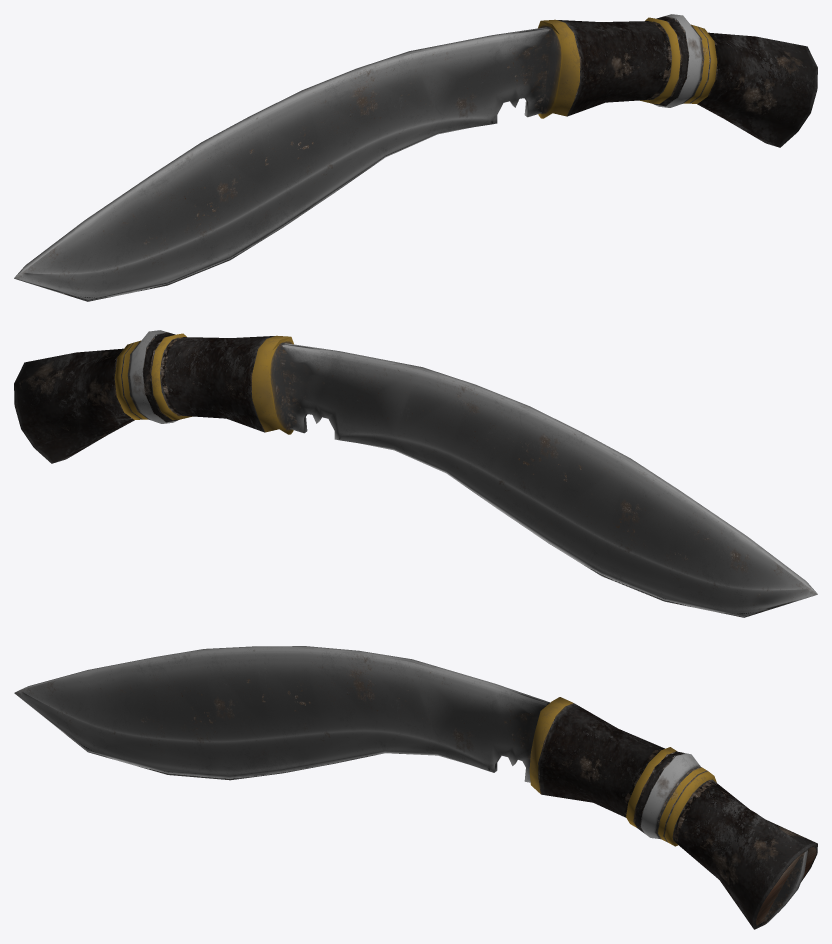
Rendered from kukri.glb.
3 renders of one model, top to bottom at view 1: azimuth 30°, elevation 25°; view 2: azimuth 150°, elevation 25°; view 3: azimuth 330°, elevation 25°, orthographic.
Parts seen in each view (by area): view 1: lowpoly; view 2: lowpoly; view 3: lowpoly.
Part boxes in pixels (x1=…): lowpoly: x1=14, y1=14, x2=817, y2=301; lowpoly: x1=14, y1=330, x2=817, y2=617; lowpoly: x1=14, y1=646, x2=817, y2=929.
Size of the model in its own units: 479 by 103 by 51.76.
Materials: 1 (1 with a texture image).
